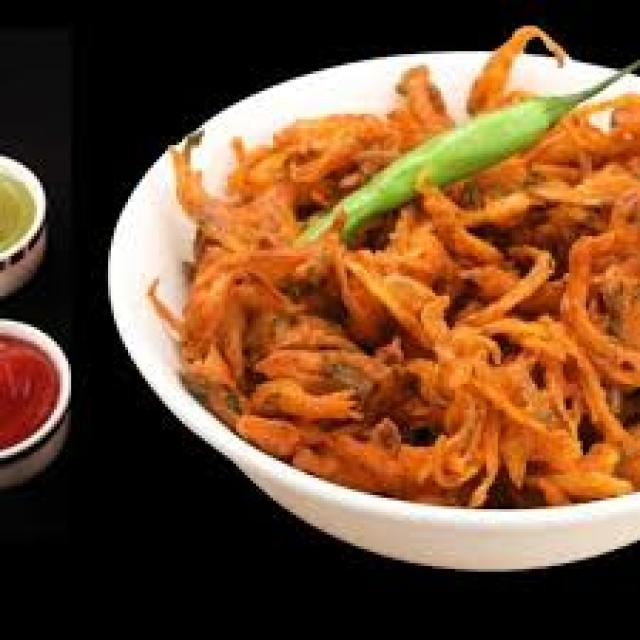BAJI: (162, 20, 637, 505)
